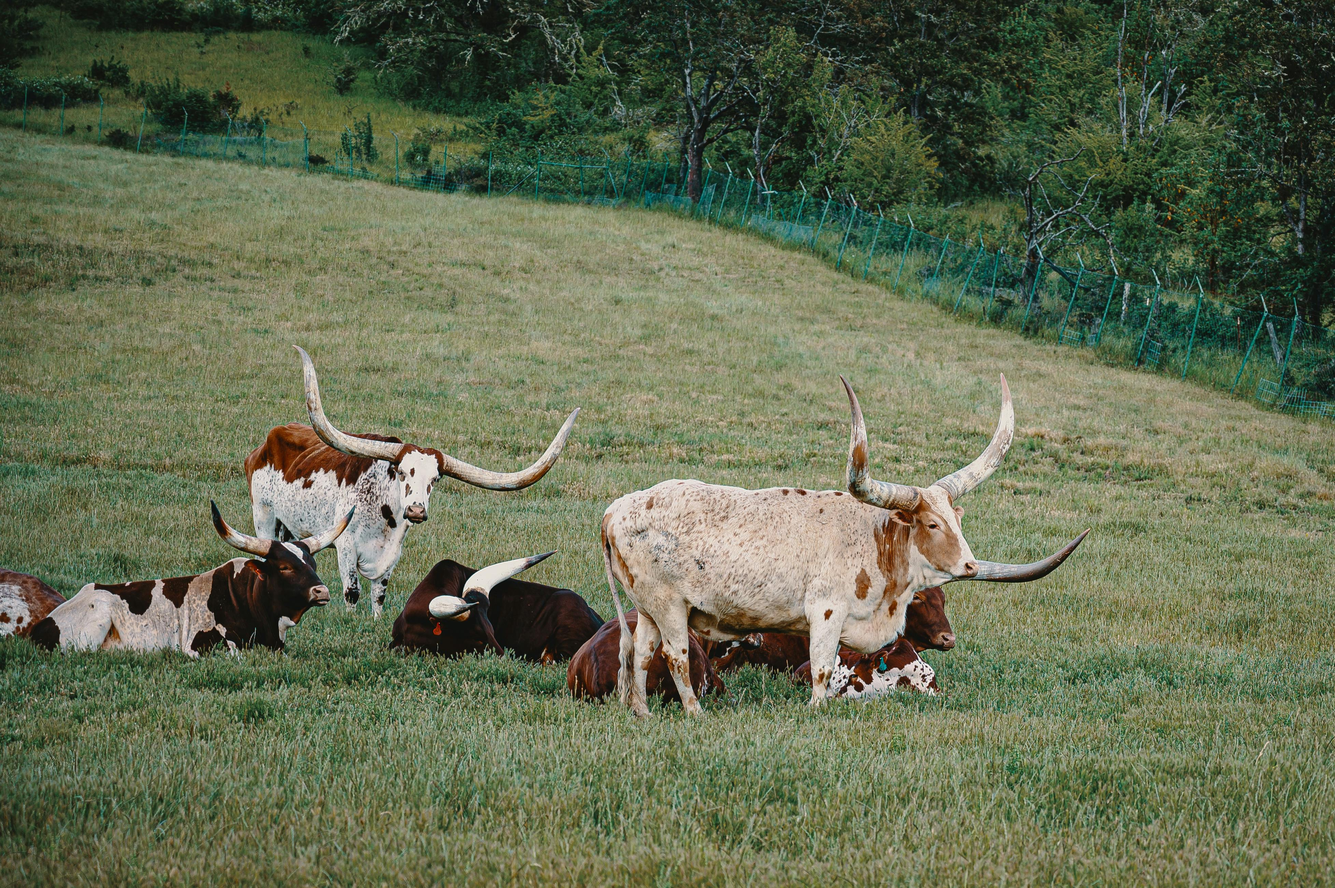bovino: (586, 463, 982, 708), (242, 422, 449, 617), (28, 539, 347, 659), (387, 554, 605, 657)
